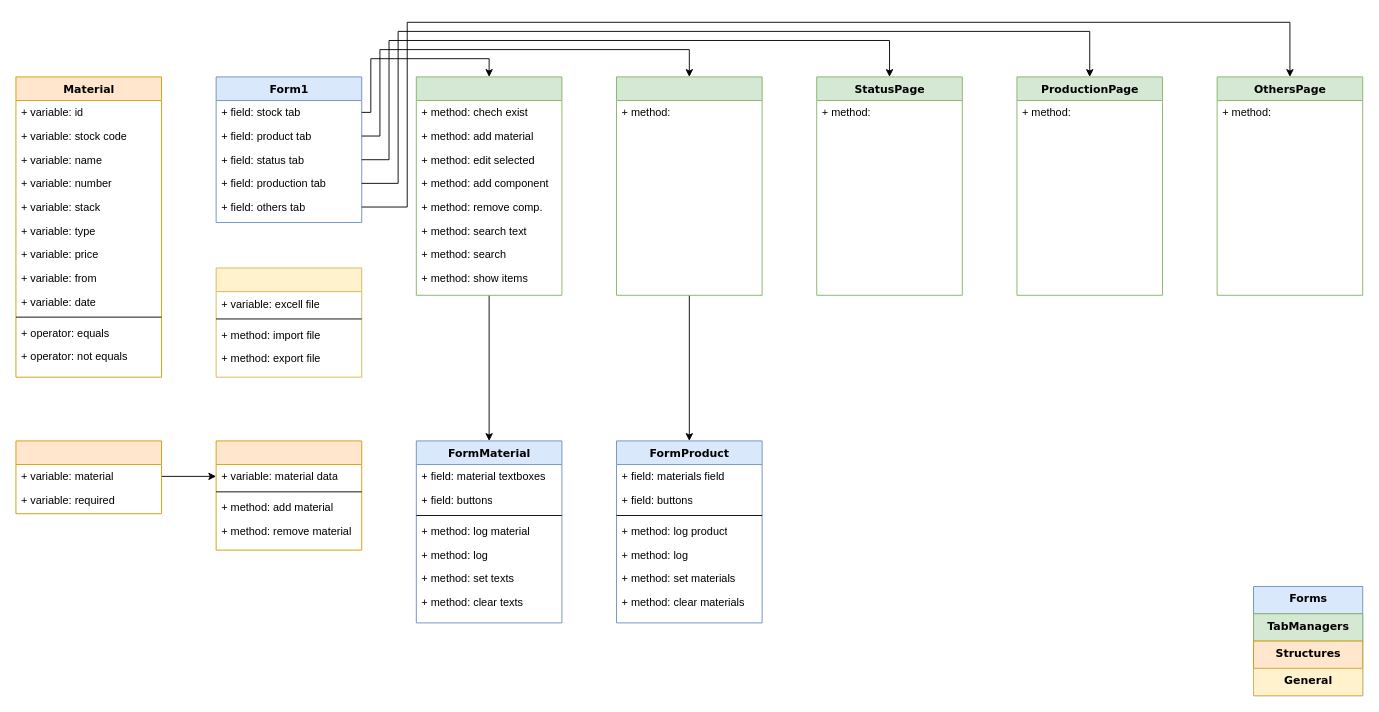
This 1379x712 diagram has some shape labels left out. Here are the shapes that lost their labels. From the top down, the box of each, then its label:
(415, 76, 562, 295): StockPage
(616, 76, 762, 295): ProductPage
(215, 267, 362, 377): ExcellHandler
(15, 440, 162, 514): MaterialData
(215, 440, 362, 550): Product
